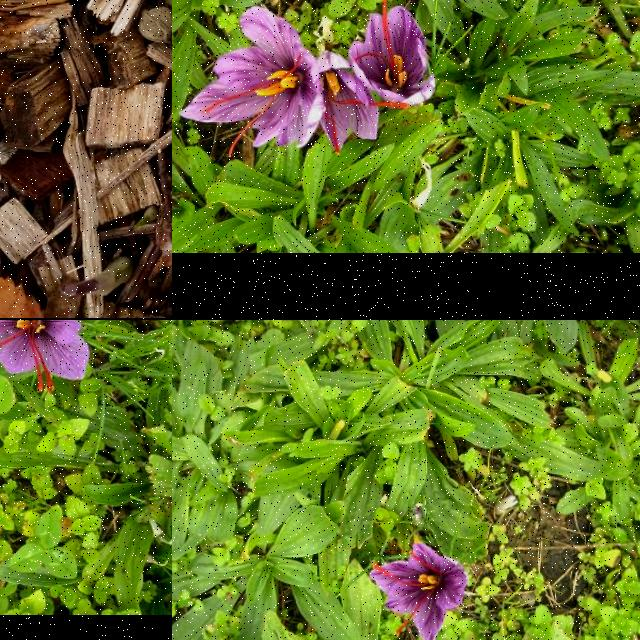flower: (179, 6, 325, 158), (369, 543, 468, 640), (347, 0, 436, 104), (0, 320, 89, 393), (317, 51, 379, 152)
